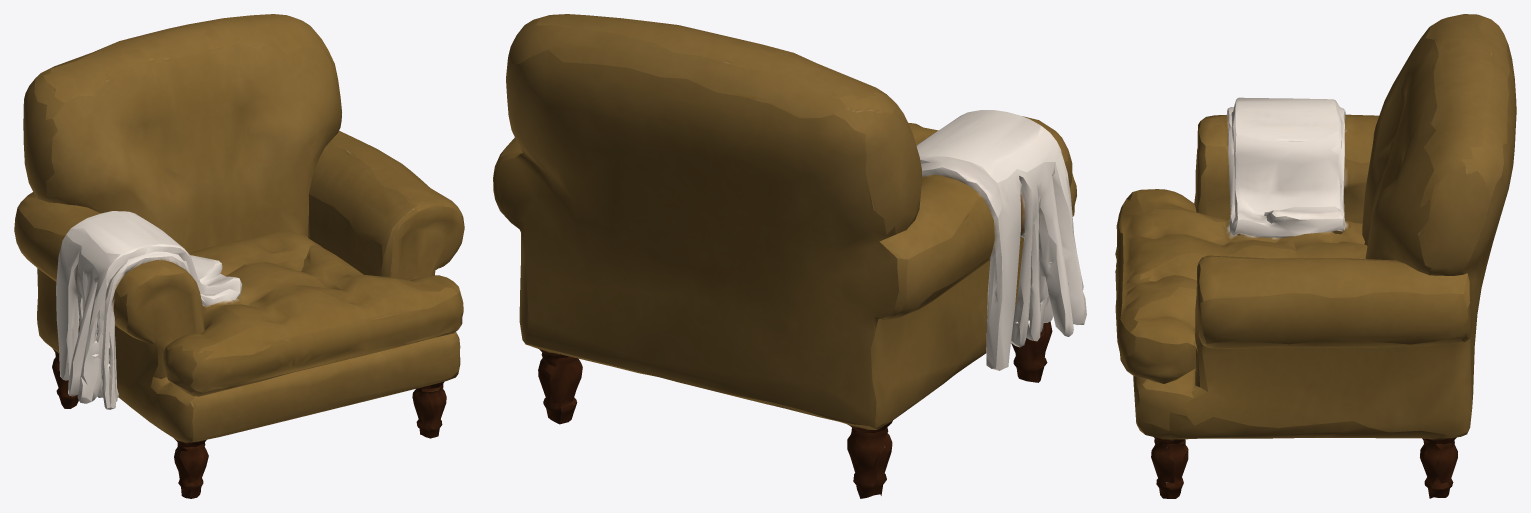
File: armchair.glb
3 views of the same model, side by side, from view 1: azimuth 30°, elevation 25°; view 2: azimuth 150°, elevation 25°; view 3: azimuth 270°, elevation 25° (orthographic). The views are drawn at different scales.
Visible parts, largest first — view 1: world; view 2: world; view 3: world.
Boxes of the visible parts, bbox=[...] form: world: bbox=[14, 14, 464, 498]; world: bbox=[493, 14, 1086, 498]; world: bbox=[1115, 14, 1516, 498].
Bounding box in the file's own units: 0.95 × 0.8242 × 0.8149.
1 material, 1 textured.
